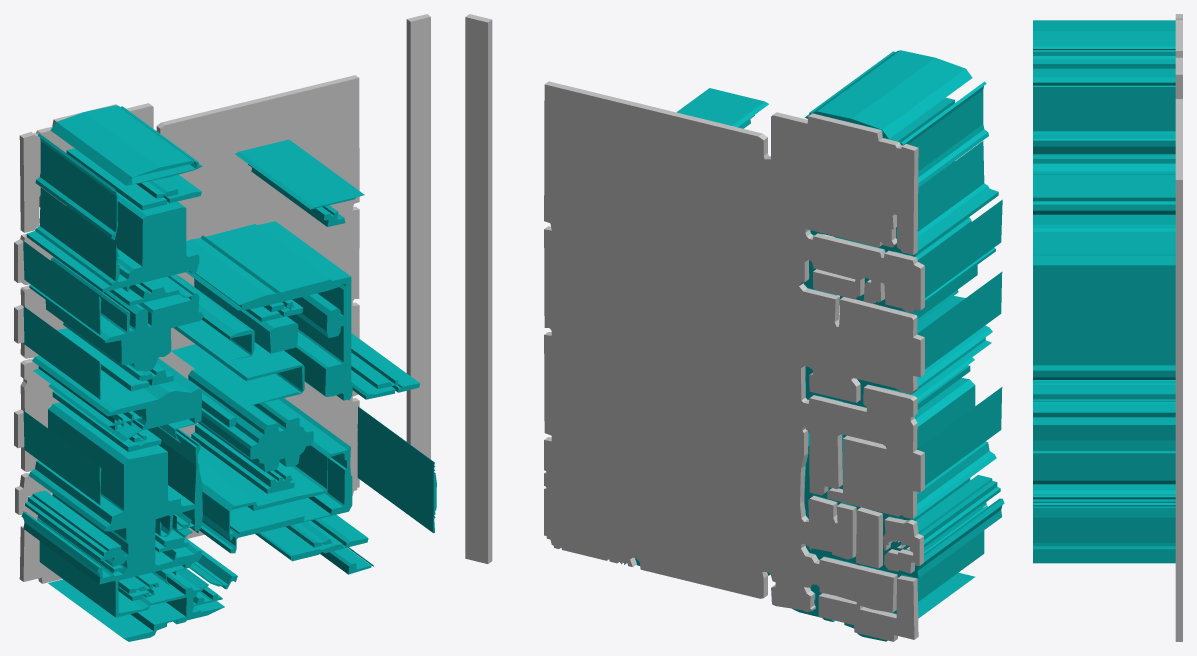
3 views of the same model, side by side, from view 1: azimuth 30°, elevation 25°; view 2: azimuth 150°, elevation 25°; view 3: azimuth 270°, elevation 25° (orthographic). The views are drawn at different scales.
Visible parts, largest first — view 1: world; view 2: world; view 3: world.
Part boxes in pixels (x1=…): world: x1=14, y1=14, x2=436, y2=641; world: x1=465, y1=14, x2=1004, y2=641; world: x1=1033, y1=14, x2=1182, y2=641.
Bounding box in the file's own units: 9.43 × 10.72 × 3.15.
